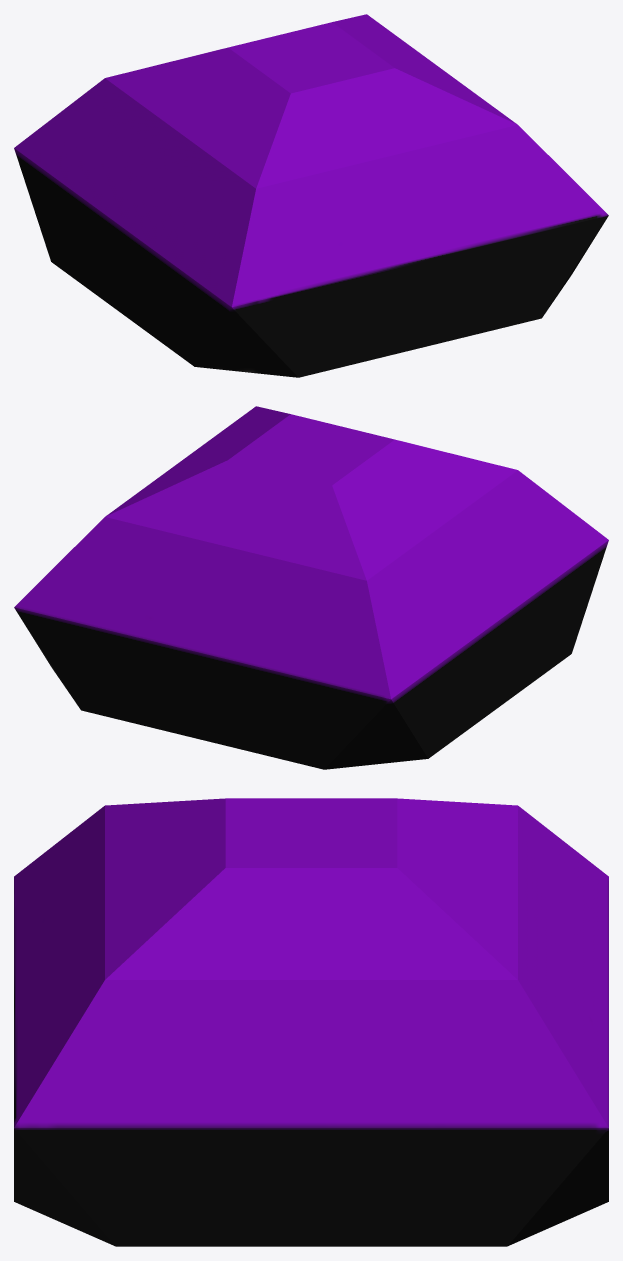
File: justProj.glb
The picture shows the model from 3 angles, top to bottom: view 1: azimuth 30°, elevation 25°; view 2: azimuth 150°, elevation 25°; view 3: azimuth 270°, elevation 25°; orthographic projection. The views are drawn at different scales.
Parts seen in each view (by area): view 1: polySurface1; view 2: polySurface1; view 3: polySurface1.
Part boxes in pixels (<box>): polySurface1: <box>14,14,608,377</box>; polySurface1: <box>14,406,608,769</box>; polySurface1: <box>14,798,608,1246</box>.
Size of the model in its own units: 0.1671 by 0.0892 by 0.1671.
1 material, 1 textured.
